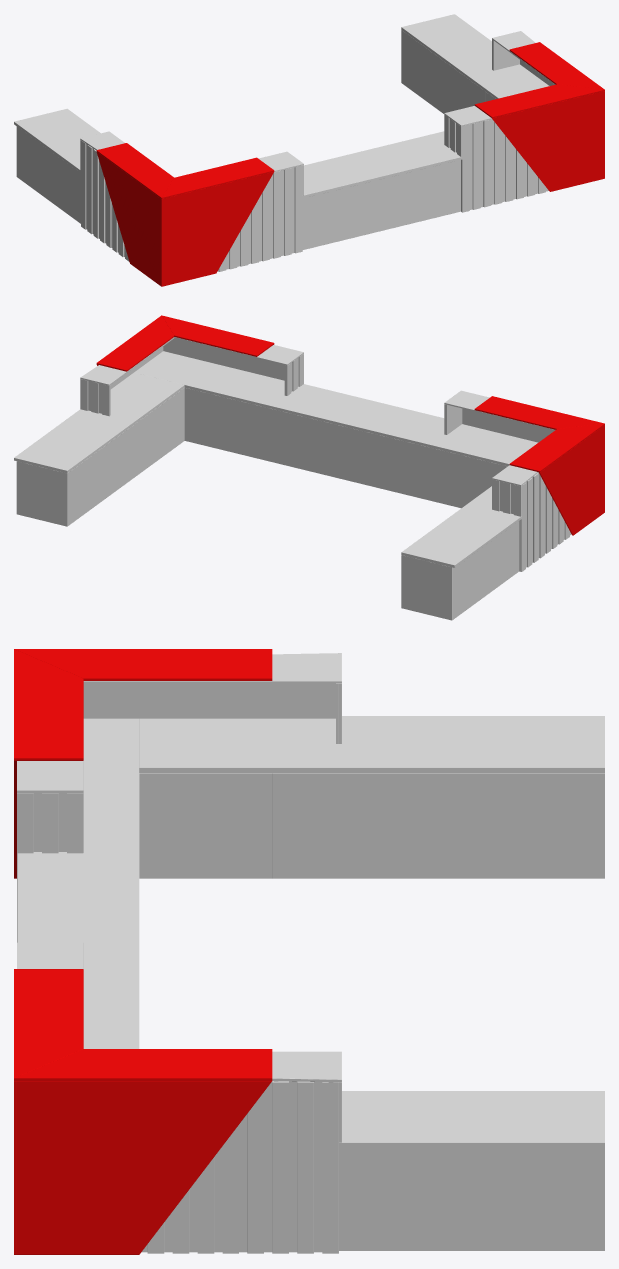
Rendered from Dobek Racing Lada.fbx.
3 views of the same model, one above another, from view 1: azimuth 30°, elevation 25°; view 2: azimuth 150°, elevation 25°; view 3: azimuth 270°, elevation 25° (orthographic). The views are drawn at different scales.
Parts seen in each view (by area): view 1: Plane.004; view 2: Plane.004; view 3: Plane.004.
Boxes of the visible parts, <box> form: Plane.004: <box>14,14,604,286</box>; Plane.004: <box>14,315,604,620</box>; Plane.004: <box>14,649,604,1254</box>.
Bounding box in the file's own units: 611 × 117 × 355.
